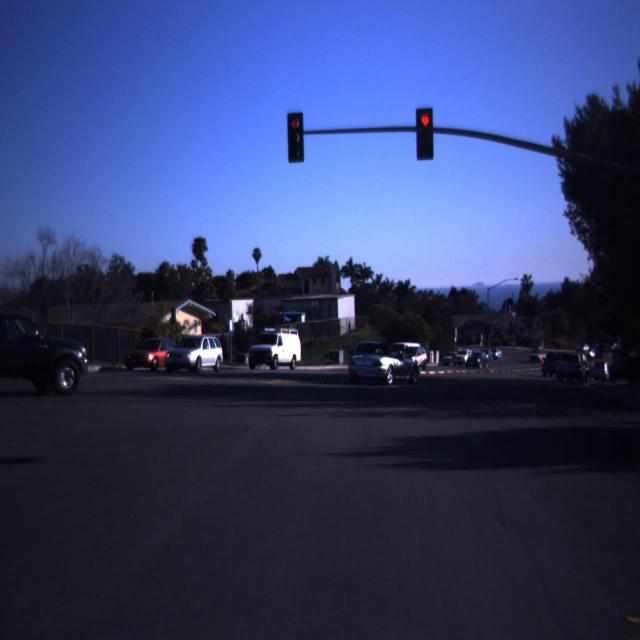stop: (422, 118, 428, 126)
stop left: (291, 119, 299, 129)
stop left traffic light: (282, 114, 308, 162)
stop traffic light: (415, 114, 435, 150)
